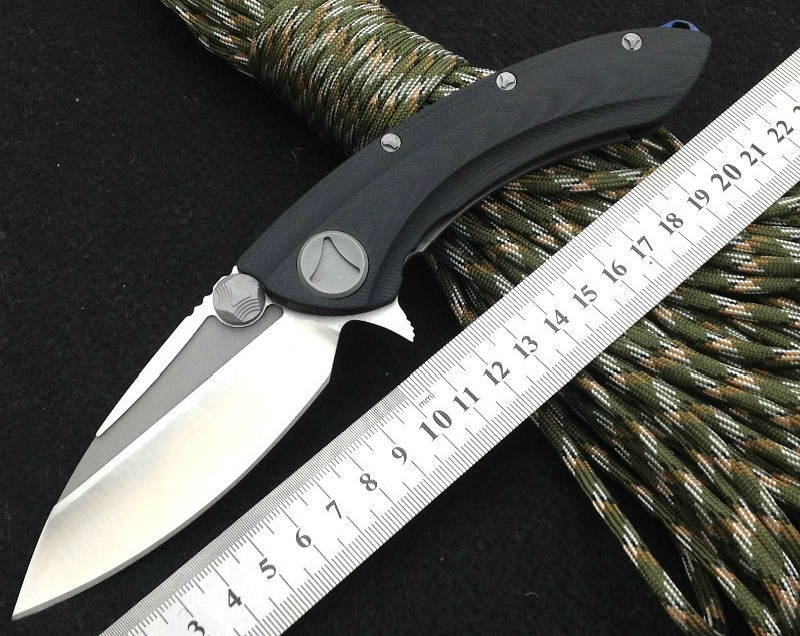knife: (1, 228, 349, 636)
